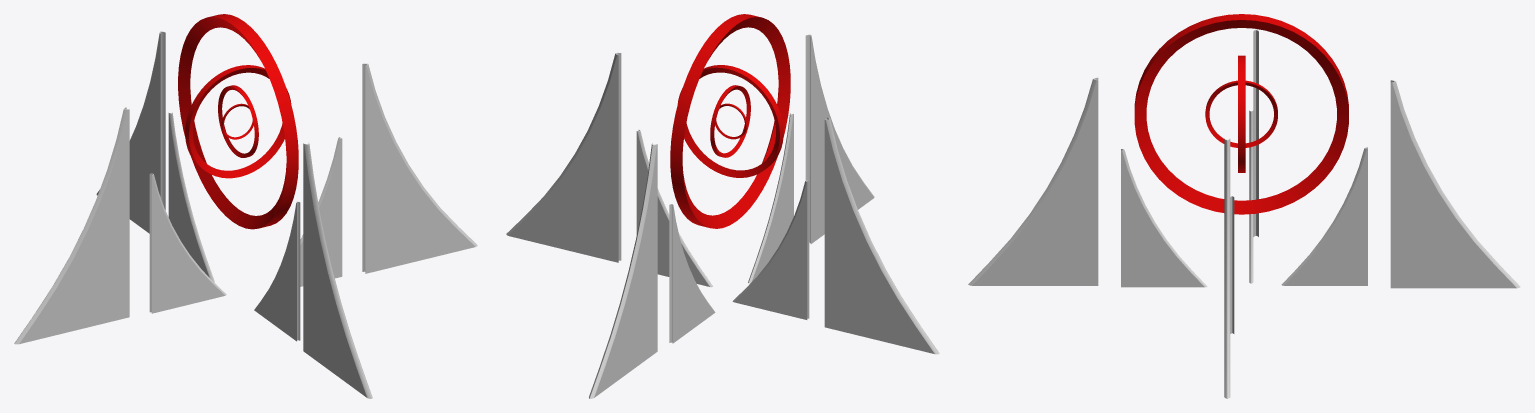
File: Statue_1.fbx
3 renders of one model, left to right at view 1: azimuth 30°, elevation 25°; view 2: azimuth 150°, elevation 25°; view 3: azimuth 270°, elevation 25°, orthographic.
Parts seen in each view (by area): view 1: Statue_1; view 2: Statue_1; view 3: Statue_1.
Part boxes in pixels (left/top/right/bottom): Statue_1: left=14, top=14, right=477, bottom=398; Statue_1: left=506, top=14, right=939, bottom=398; Statue_1: left=968, top=14, right=1520, bottom=398.
Size of the model in its own units: 44.71 by 26 by 48.23.
